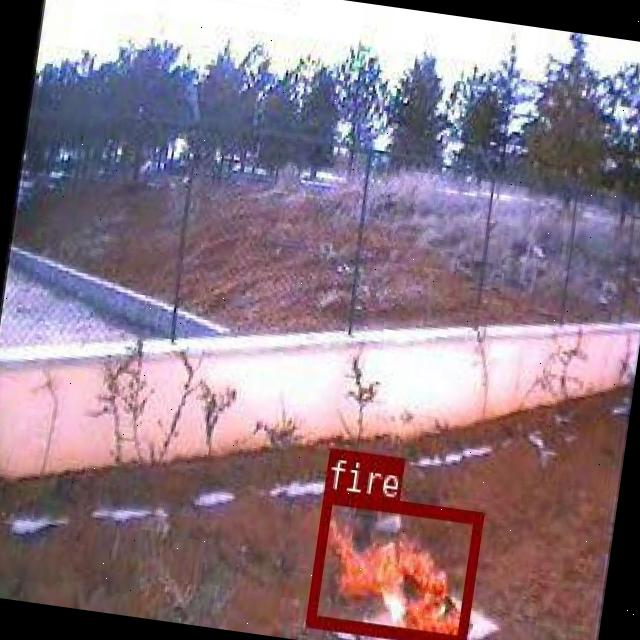fire: (304, 488, 481, 640)
